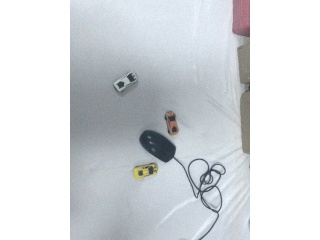mouse: (139, 129, 176, 164)
toy_car: (113, 72, 138, 93), (133, 163, 158, 180), (164, 110, 179, 136)
